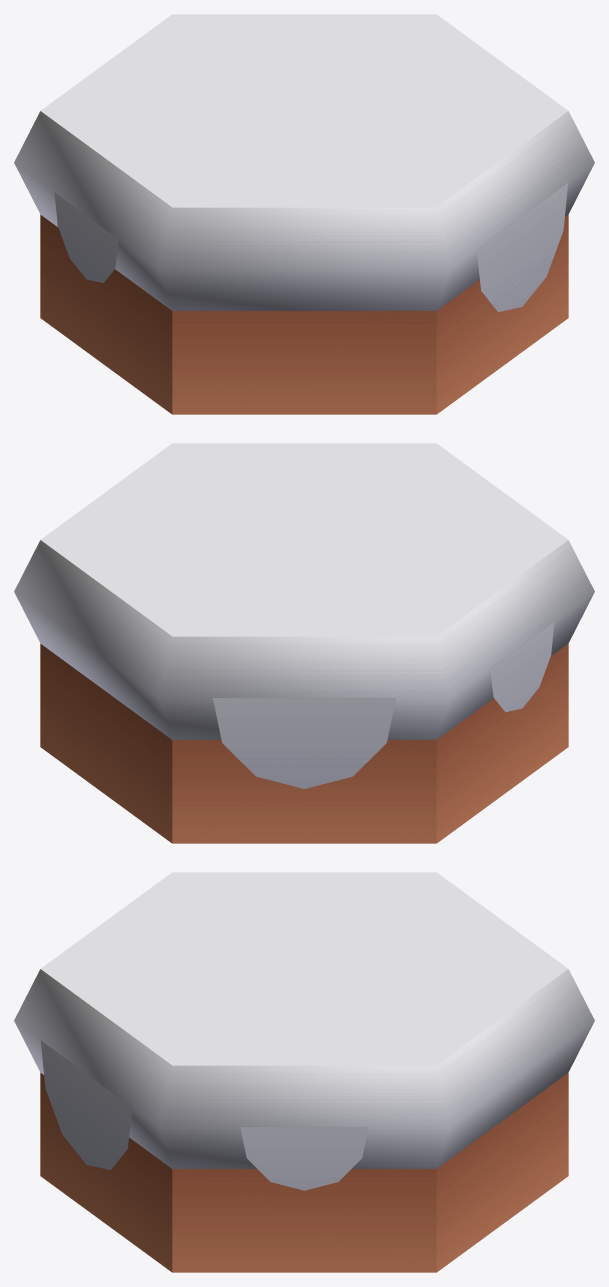
The model's file is block-snow-overhang-low-hexagon.glb.
The picture shows the model from 3 angles, top to bottom: view 1: azimuth 30°, elevation 25°; view 2: azimuth 150°, elevation 25°; view 3: azimuth 270°, elevation 25°; orthographic projection.
Visible parts, largest first — view 1: block-snow-overhang-low-hexagon; view 2: block-snow-overhang-low-hexagon; view 3: block-snow-overhang-low-hexagon.
Boxes of the visible parts, left/top/right/bottom form: block-snow-overhang-low-hexagon: left=14, top=14, right=594, bottom=414; block-snow-overhang-low-hexagon: left=14, top=443, right=594, bottom=843; block-snow-overhang-low-hexagon: left=14, top=872, right=594, bottom=1272.
Bounding box in the file's own units: 1.1 × 0.5 × 1.27.
1 material, 1 textured.
